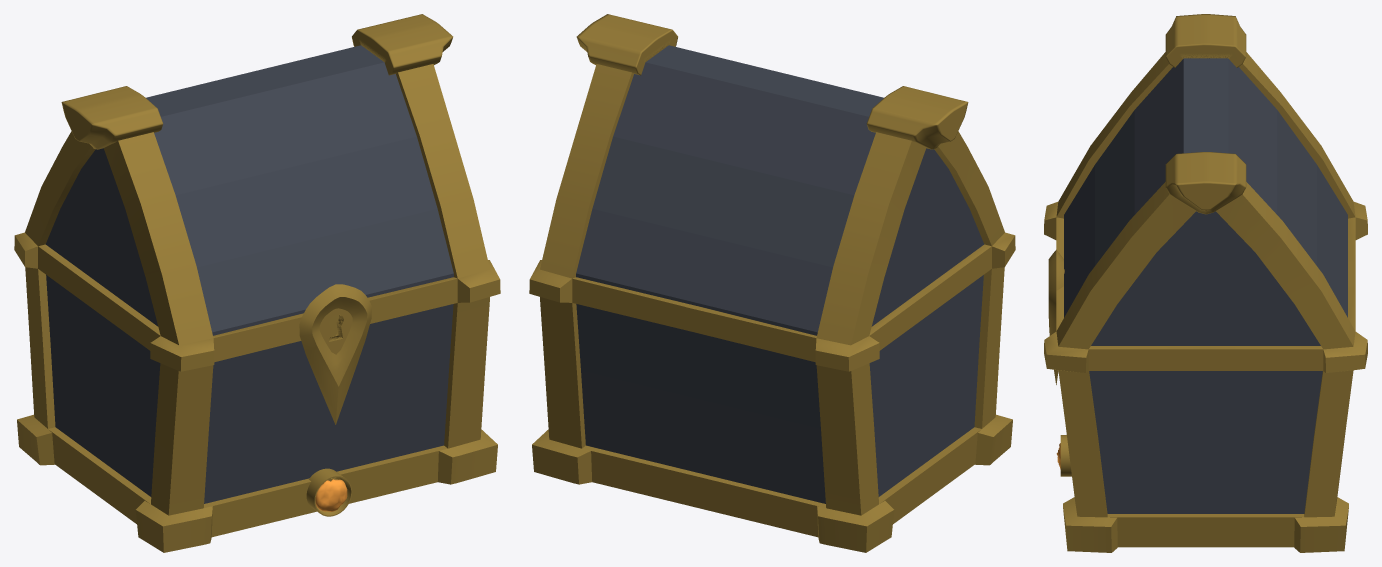
Rendered from Gold Chest.fbx.
3 renders of one model, left to right at view 1: azimuth 30°, elevation 25°; view 2: azimuth 150°, elevation 25°; view 3: azimuth 270°, elevation 25°, orthographic. The views are drawn at different scales.
Visible parts, largest first — view 1: Chest Lid, Chest Base, Gemstone.002; view 2: Chest Lid, Chest Base; view 3: Chest Lid, Chest Base.
Boxes of the visible parts, x1,y1,x2,y2 form: Chest Lid: [25, 14, 489, 345]; Chest Base: [14, 232, 500, 552]; Gemstone.002: [315, 479, 347, 511]; Chest Lid: [540, 14, 1004, 345]; Chest Base: [529, 232, 1015, 552]; Chest Lid: [1056, 14, 1355, 349]; Chest Base: [1044, 202, 1367, 552].
Bounding box in the file's own units: 2.4 × 2.51 × 1.95.
